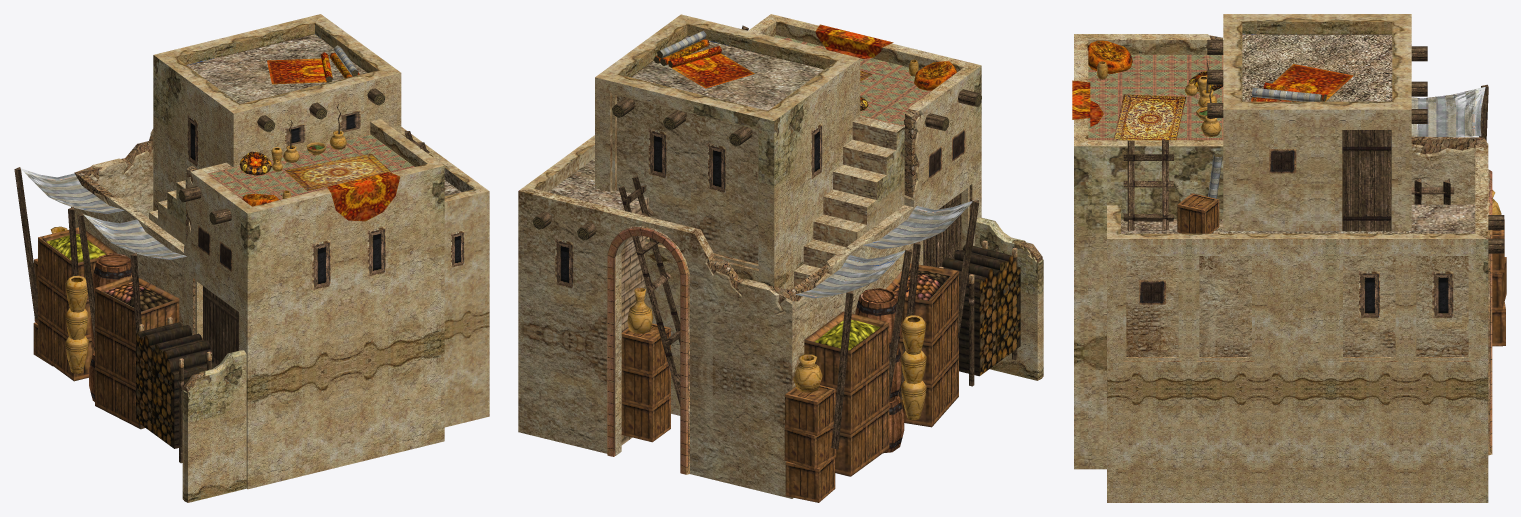
File: pers_house_d.glb
3 views of the same model, side by side, from view 1: azimuth 30°, elevation 25°; view 2: azimuth 150°, elevation 25°; view 3: azimuth 270°, elevation 25° (orthographic). The views are drawn at different scales.
Bounding box in the file's own units: 13.49 × 12.86 × 13.54.
Materials: 1 (1 with a texture image).
